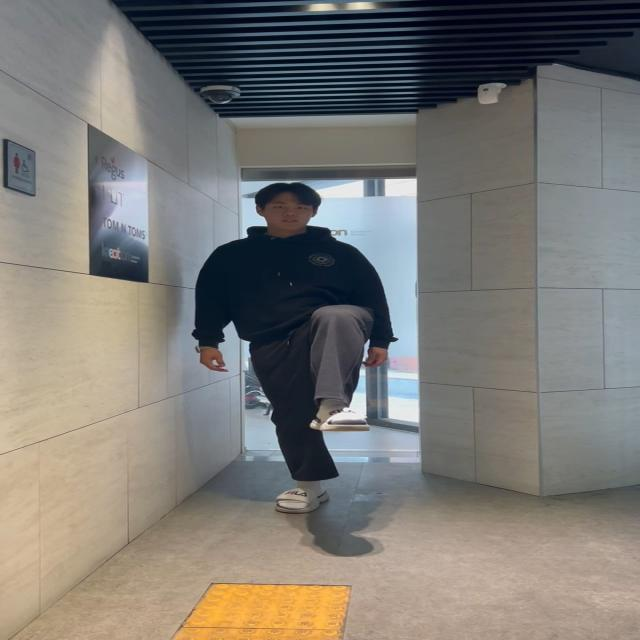knee: (302, 298, 404, 435)
